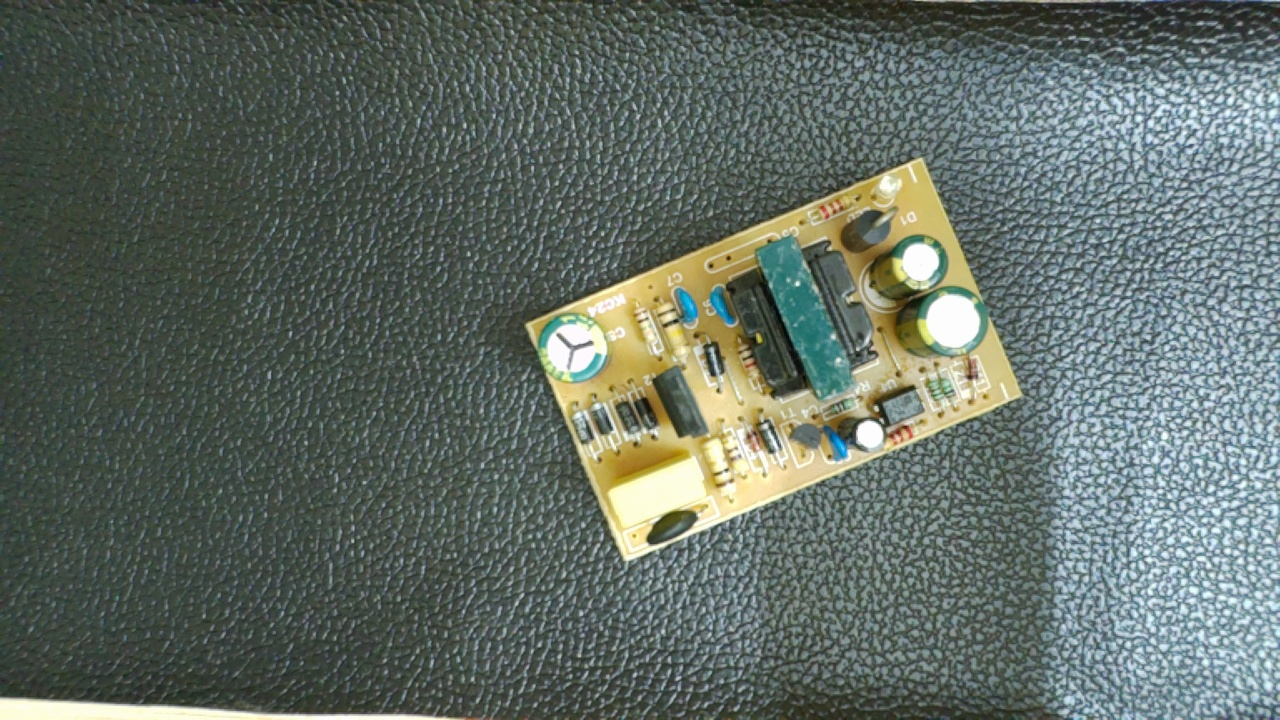fuse: (632, 506, 713, 551)
hv_capacitor: (531, 311, 617, 386)
optocoupler: (870, 381, 935, 431)
